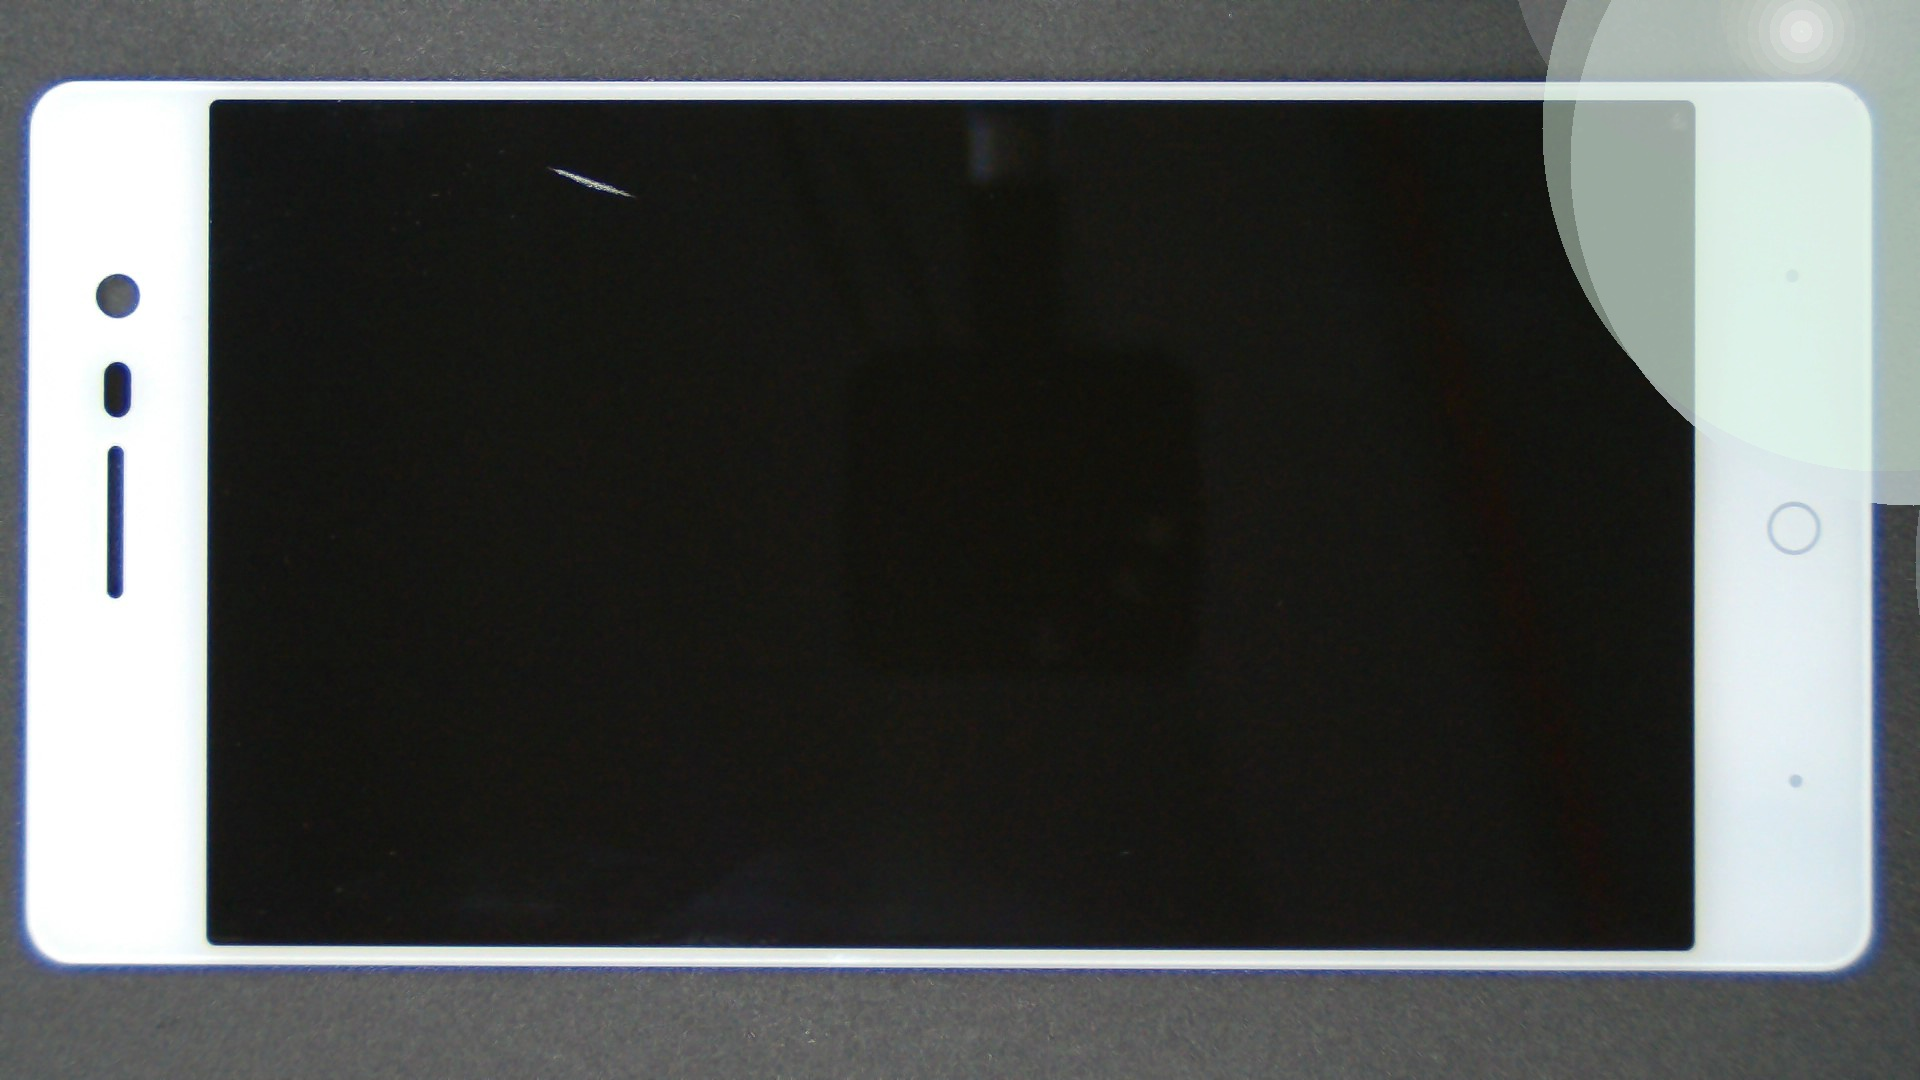oil: (277, 82, 825, 251)
